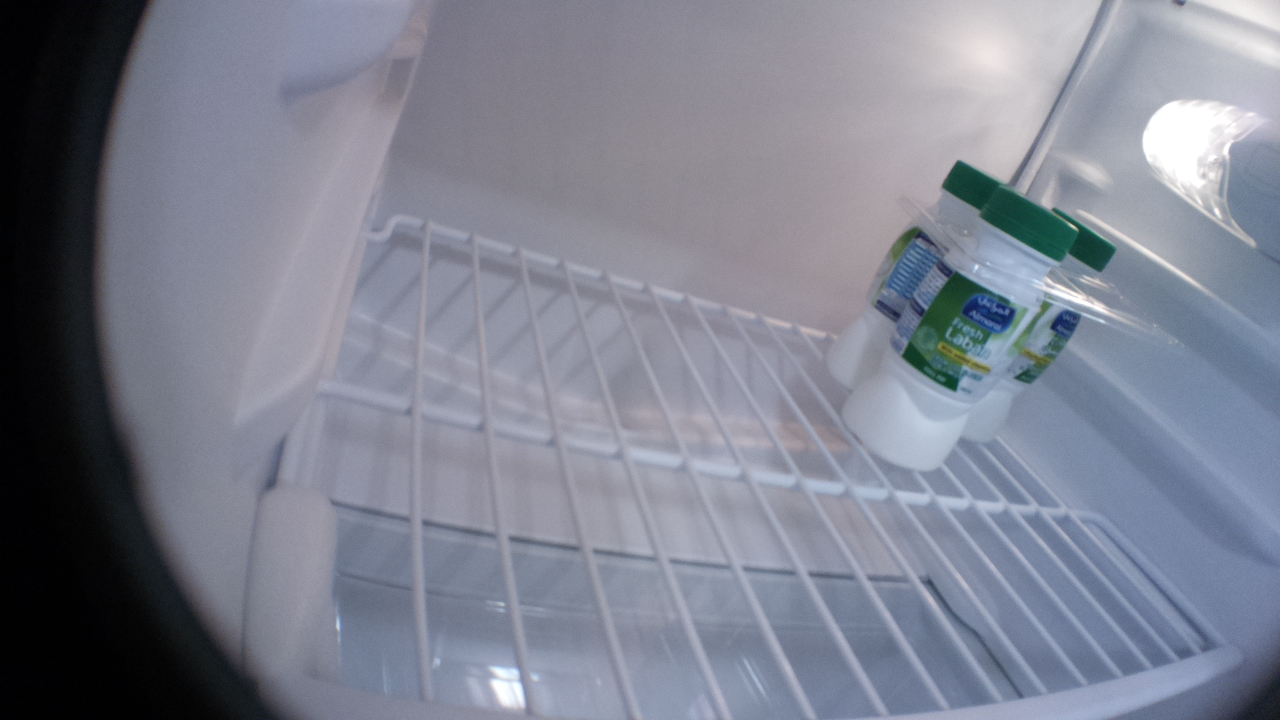laban: (839, 185, 1081, 471), (831, 158, 1003, 392), (959, 207, 1118, 443)
